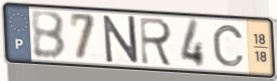4: (179, 18, 207, 71)
7: (68, 11, 100, 62)
B: (29, 10, 68, 61)
C: (211, 23, 247, 69)
N: (101, 15, 140, 65)
R: (138, 15, 175, 68)
